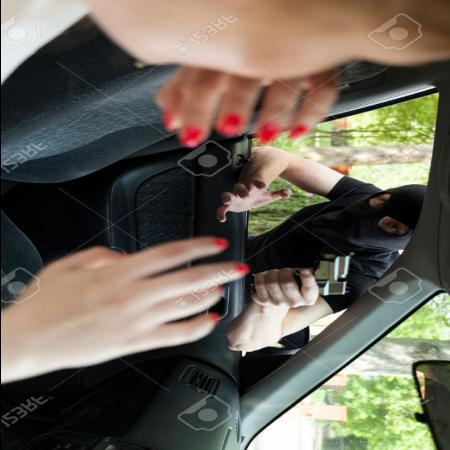Pistol: (249, 249, 352, 298)
